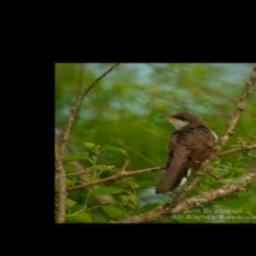Cuckoo: (154, 112, 218, 194)
